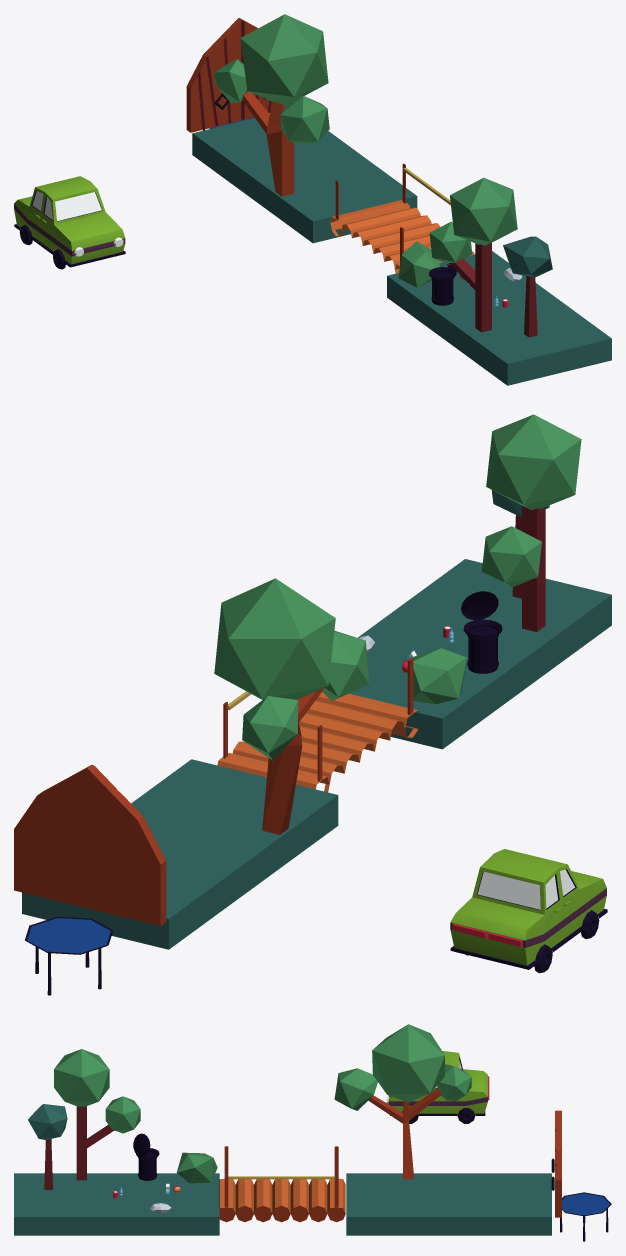
The model's file is mymodels.fbx.
3 views of the same model, one above another, from view 1: azimuth 30°, elevation 25°; view 2: azimuth 150°, elevation 25°; view 3: azimuth 270°, elevation 25° (orthographic). The views are drawn at different scales.
Parts seen in each view (by area): view 1: RoadObstacle, RoadObstacle.001, Tree_04, Car, Tree_01, WalkableObstacle, DoorObstacle, Tree_03, Tree_02, Trash; view 2: RoadObstacle.001, RoadObstacle, Tree_04, DoorObstacle, Car, Tree_01, WalkableObstacle, JumpObstacle, Tree_02, Trash; view 3: RoadObstacle.001, RoadObstacle, Tree_04, WalkableObstacle, Tree_01, Car, Tree_03, JumpObstacle, Tree_02, Trash, DoorObstacle, Rope.
Part boxes in pixels (bbox=[...]): RoadObstacle: bbox=[387, 251, 611, 385]; RoadObstacle.001: bbox=[192, 118, 417, 243]; Tree_04: bbox=[214, 14, 329, 196]; Car: bbox=[14, 176, 125, 269]; Tree_01: bbox=[429, 177, 517, 332]; WalkableObstacle: bbox=[330, 163, 474, 273]; DoorObstacle: bbox=[186, 18, 271, 132]; Tree_03: bbox=[503, 236, 552, 337]; Tree_02: bbox=[398, 241, 439, 287]; Trash: bbox=[429, 264, 456, 305]; RoadObstacle.001: bbox=[22, 759, 338, 949]; RoadObstacle: bbox=[349, 559, 611, 749]; Tree_04: bbox=[214, 578, 369, 834]; DoorObstacle: bbox=[14, 764, 166, 925]; Car: bbox=[450, 849, 607, 973]; Tree_01: bbox=[481, 414, 581, 631]; WalkableObstacle: bbox=[217, 658, 418, 792]; JumpObstacle: bbox=[25, 916, 113, 995]; Tree_02: bbox=[411, 648, 466, 704]; Trash: bbox=[461, 591, 502, 673]; RoadObstacle.001: bbox=[346, 1173, 551, 1235]; RoadObstacle: bbox=[14, 1173, 219, 1235]; Tree_04: bbox=[334, 1024, 471, 1179]; WalkableObstacle: bbox=[219, 1146, 345, 1222]; Tree_01: bbox=[54, 1049, 140, 1180]; Car: bbox=[386, 1051, 489, 1123]; Tree_03: bbox=[28, 1104, 67, 1189]; JumpObstacle: bbox=[560, 1192, 611, 1241]; Tree_02: bbox=[176, 1152, 217, 1183]; Trash: bbox=[133, 1133, 159, 1180]; DoorObstacle: bbox=[551, 1110, 561, 1217]; Rope: bbox=[228, 1176, 335, 1179].
Size of the model in its own units: 1549 by 1015 by 2906.
